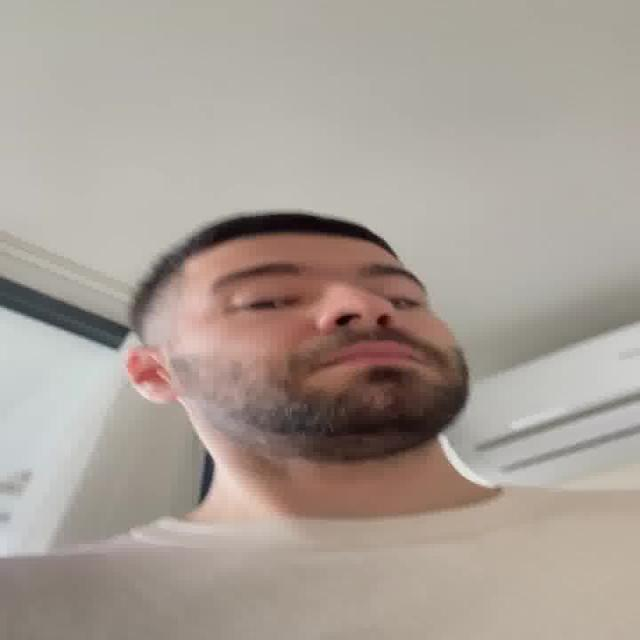earlobe: (124, 346, 182, 404)
